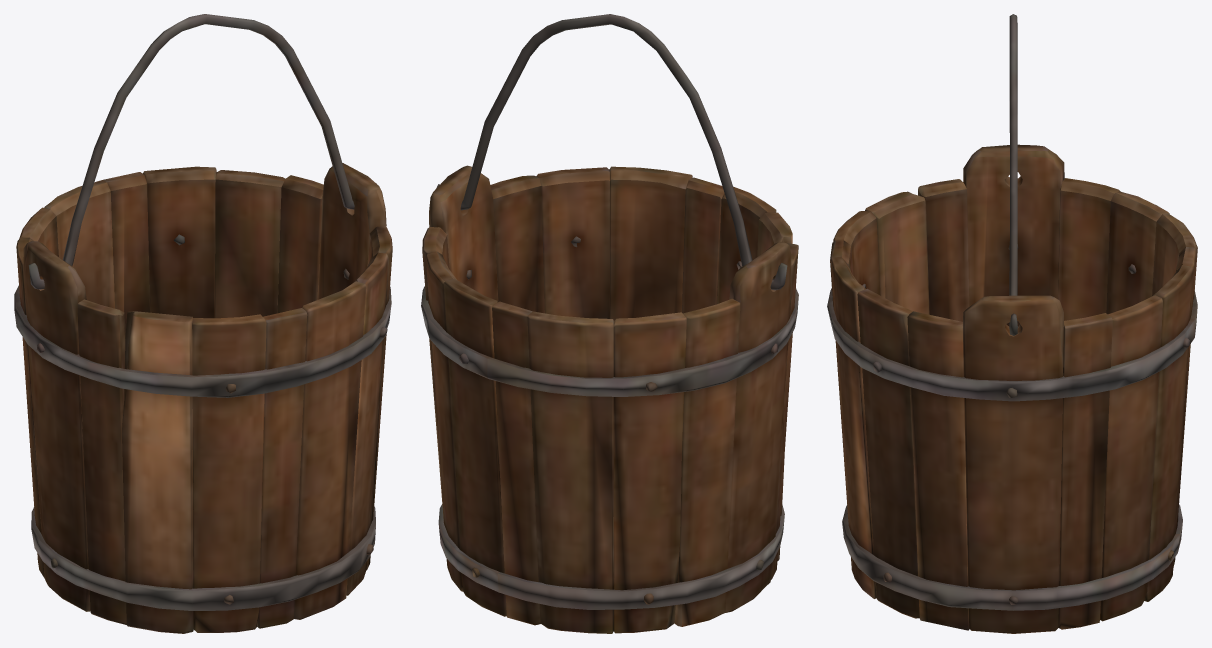
The model's file is bucket.glb.
The picture shows the model from 3 angles, left to right: view 1: azimuth 30°, elevation 25°; view 2: azimuth 150°, elevation 25°; view 3: azimuth 270°, elevation 25°; orthographic projection.
Visible parts, largest first — view 1: wooden_bucket_01; view 2: wooden_bucket_01; view 3: wooden_bucket_01.
Part boxes in pixels (<box>): wooden_bucket_01: <box>14,14,392,633</box>; wooden_bucket_01: <box>421,14,798,633</box>; wooden_bucket_01: <box>827,14,1197,633</box>.
Size of the model in its own units: 0.3663 by 0.5499 by 0.3419.
1 material, 1 textured.
